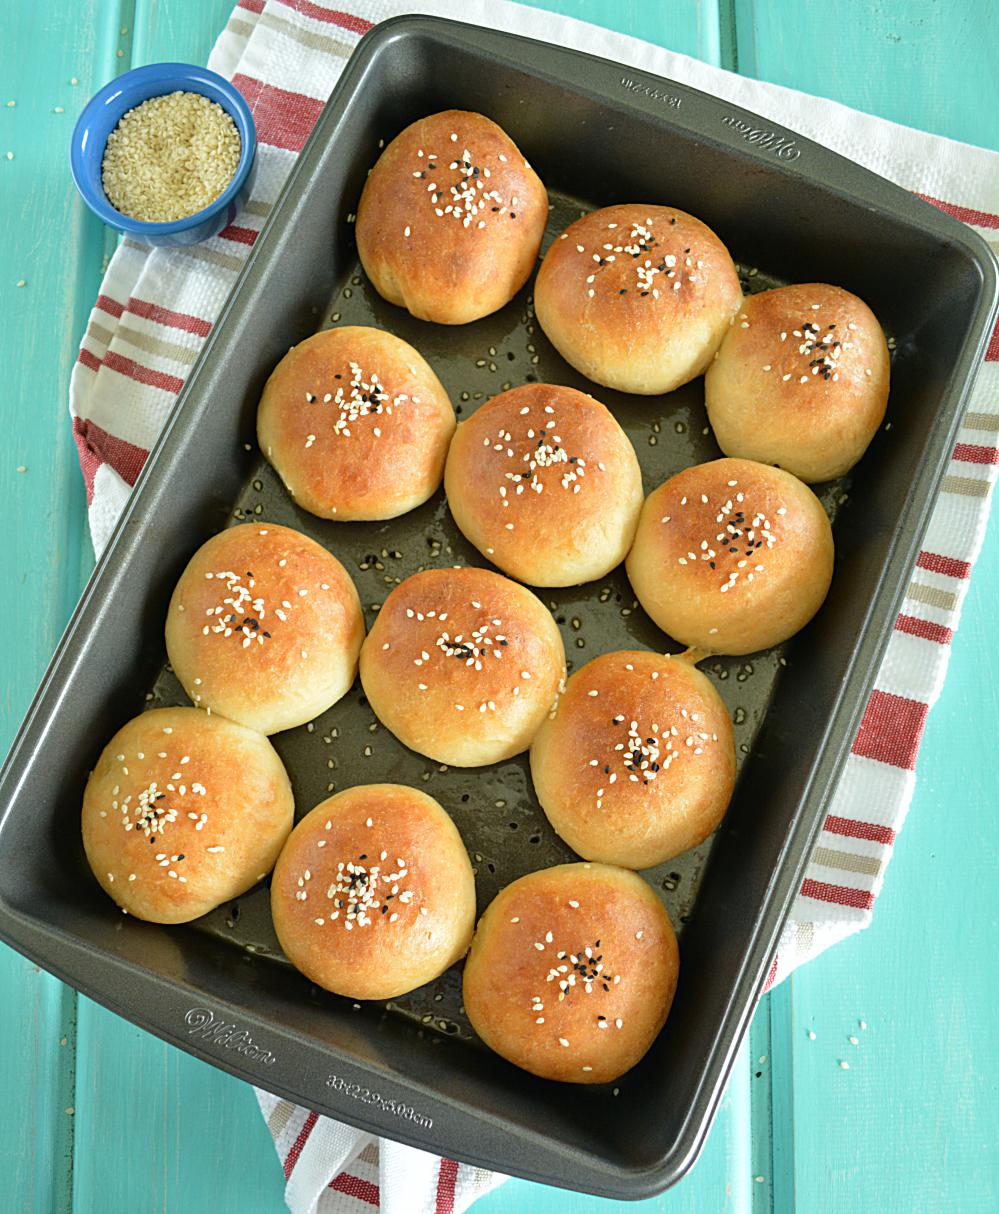hamburger_buns: (465, 847, 715, 1121), (433, 361, 654, 600), (165, 515, 364, 743), (361, 562, 557, 778)
